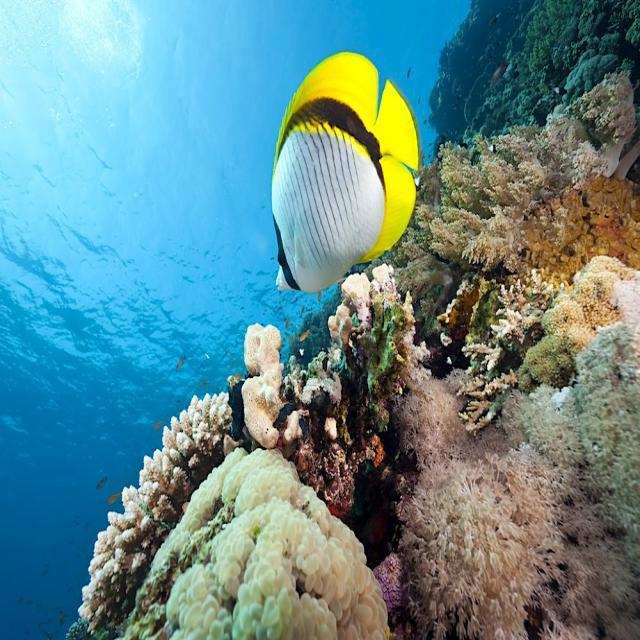ButterflyFish: (249, 44, 436, 300)
